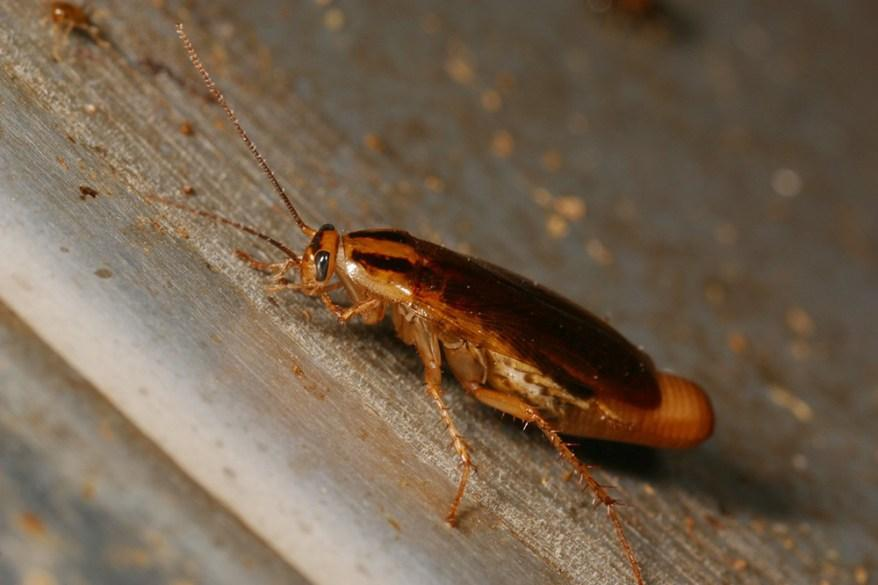cockroach: (292, 218, 664, 440)
